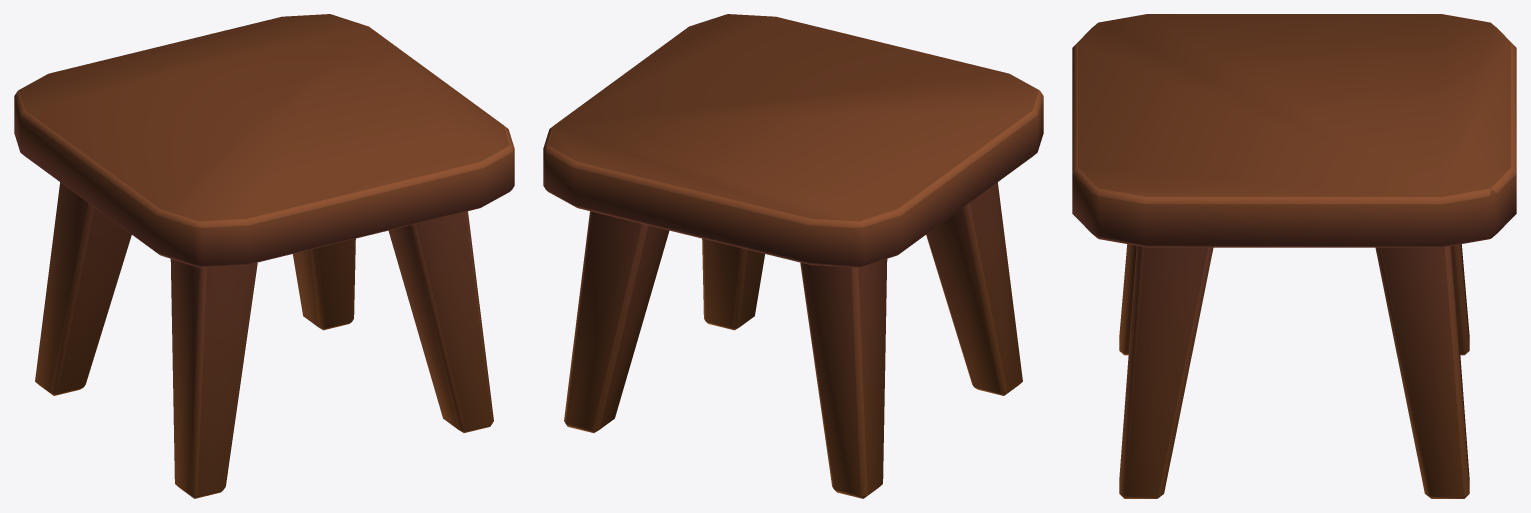
The model's file is chair.fbx.
The picture shows the model from 3 angles, left to right: view 1: azimuth 30°, elevation 25°; view 2: azimuth 150°, elevation 25°; view 3: azimuth 270°, elevation 25°; orthographic projection. The views are drawn at different scales.
Parts seen in each view (by area): view 1: chair; view 2: chair; view 3: chair.
Part boxes in pixels (x1,y1,x2,y2): chair: [14, 14, 514, 498]; chair: [543, 14, 1043, 498]; chair: [1072, 14, 1516, 498].
Bounding box in the file's own units: 159 × 124 × 159.
